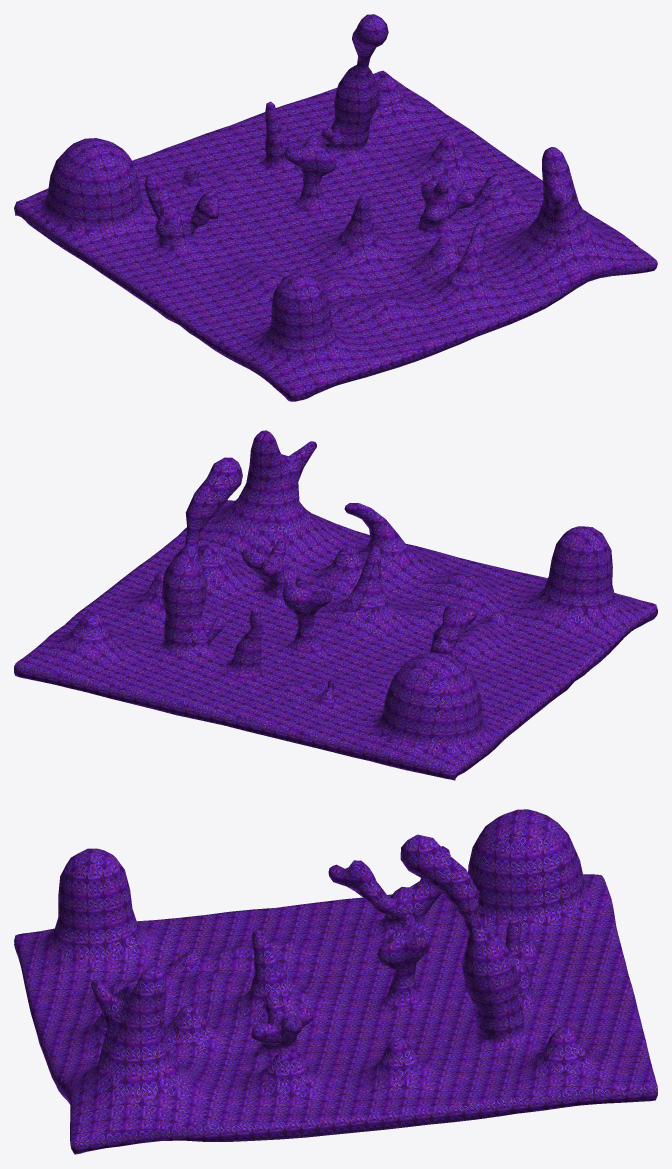
The model's file is Floor.glb.
3 views of the same model, one above another, from view 1: azimuth 30°, elevation 25°; view 2: azimuth 150°, elevation 25°; view 3: azimuth 270°, elevation 25° (orthographic). The views are drawn at different scales.
Visible parts, largest first — view 1: Retopo_inst_9; view 2: Retopo_inst_9; view 3: Retopo_inst_9.
Boxes of the visible parts, x1,y1,x2,y2 form: Retopo_inst_9: (14,14,657,401); Retopo_inst_9: (14,430,657,780); Retopo_inst_9: (14,809,657,1154).
Size of the model in its own units: 78.88 by 36.54 by 82.11.
Materials: 1 (1 with a texture image).
